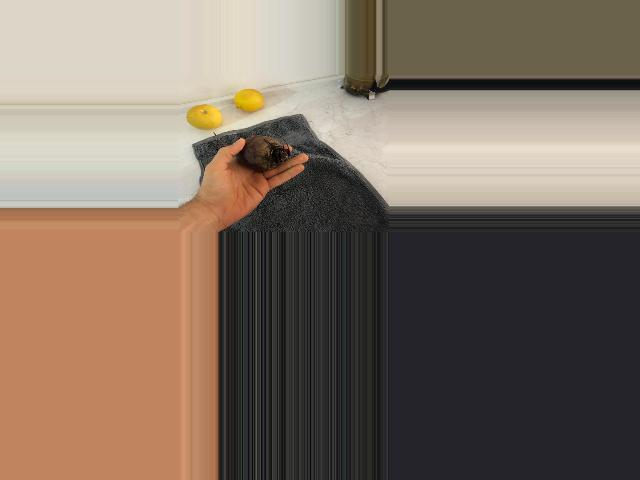beet: (213, 132, 289, 171)
